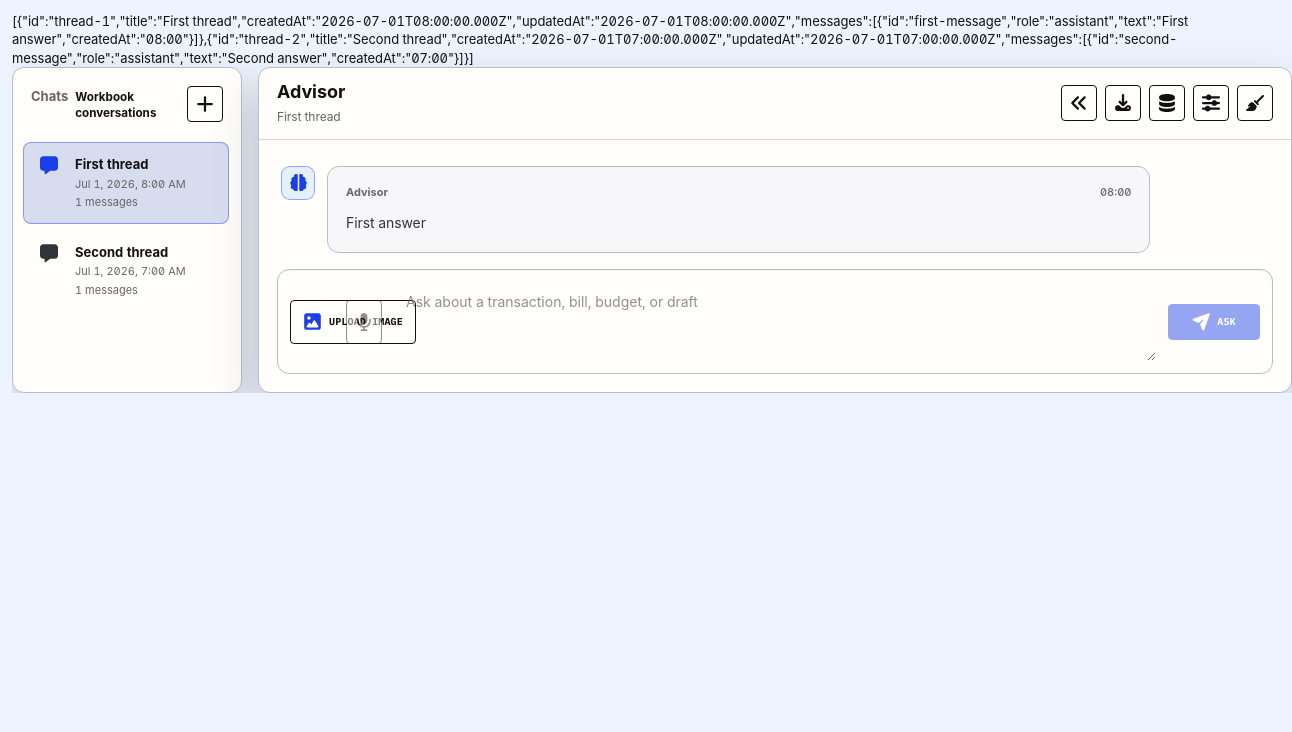
Test: advisor chat interactions › submits chat, stores a new workbook identity, and navigates threads
Click the button "Second thread Jul 1, 2026, 7:00 AM 1 messages": [126, 271] box [23,230,229,312]
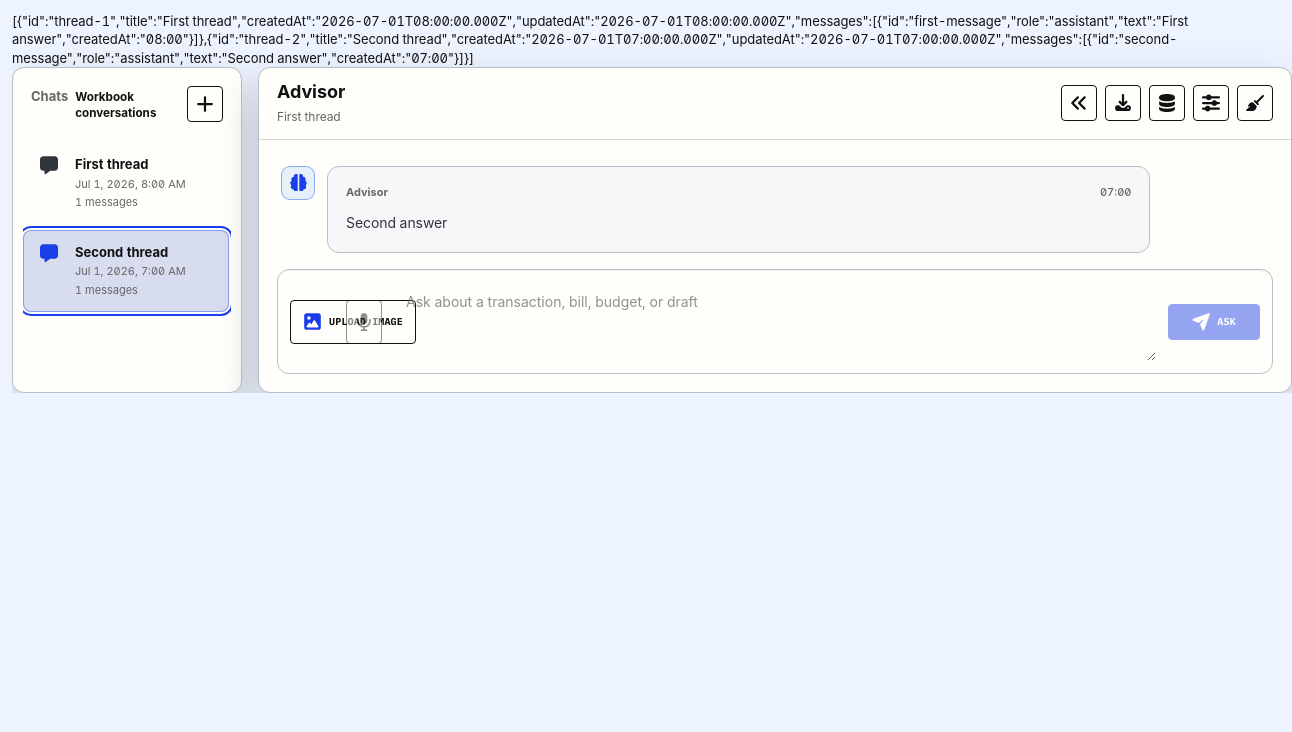
Expected: the text "Second answer" is shown, [346,214,447,231]
Click the button "First thread Jul 1, 2026, 8:00 AM 1 messages": [126, 183] box [23,142,229,224]
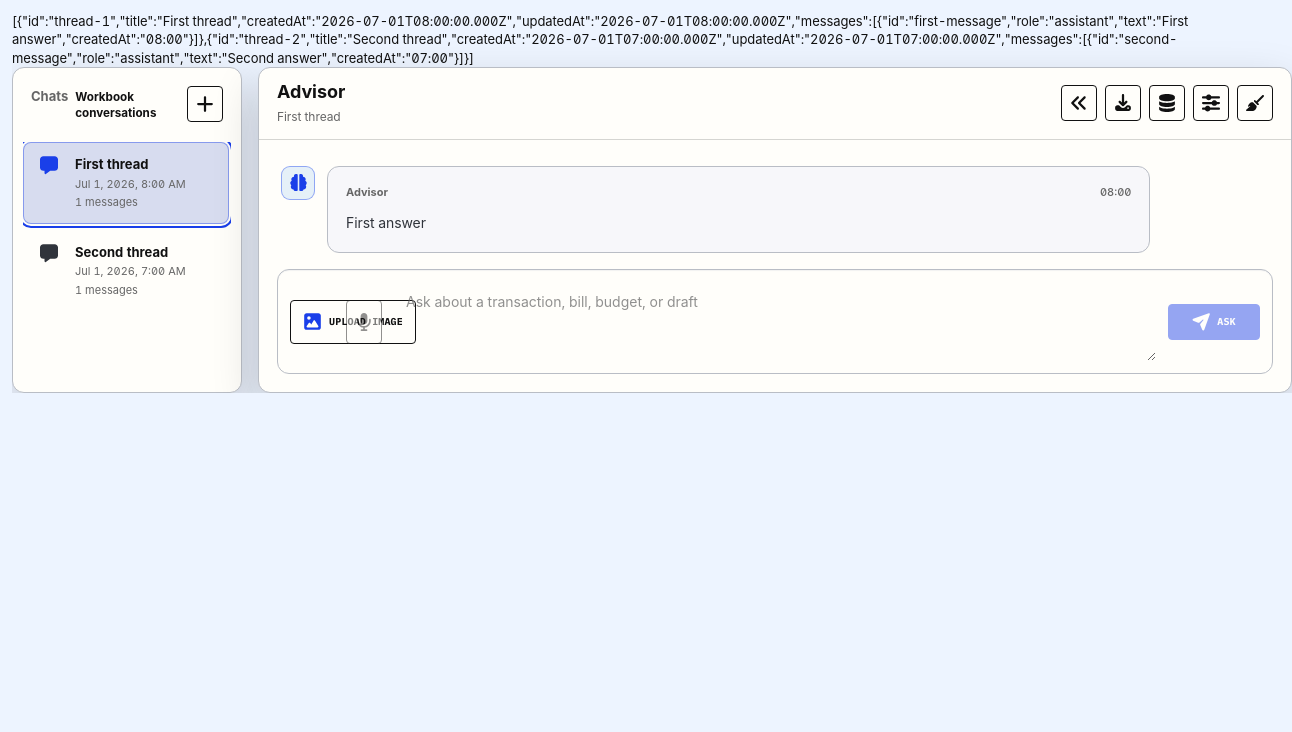
In the text box named "Ask Advisor": [779, 322] box [402,282,1156,361], type "What changed?"
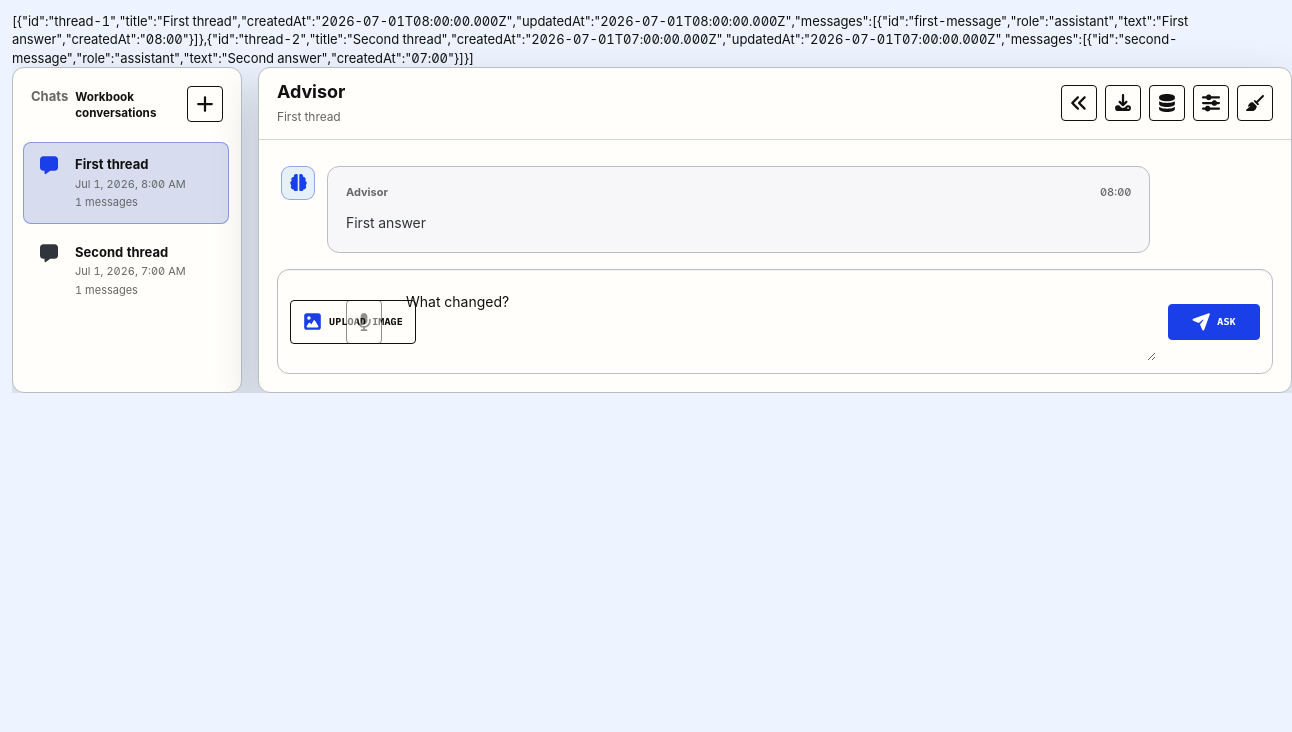
Click the button "Ask": [1214, 322] box [1168,304,1260,340]
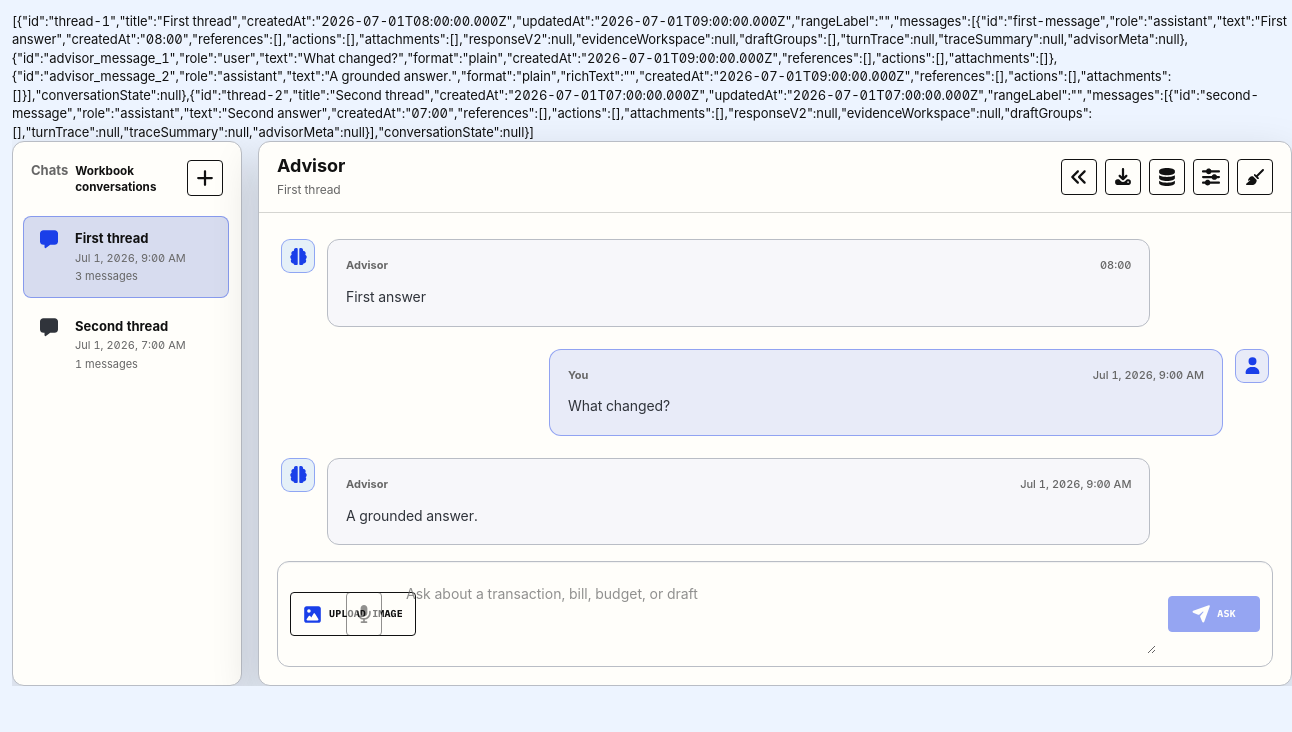
Expected: the text "A grounded answer." is shown, [346,507,478,524]
